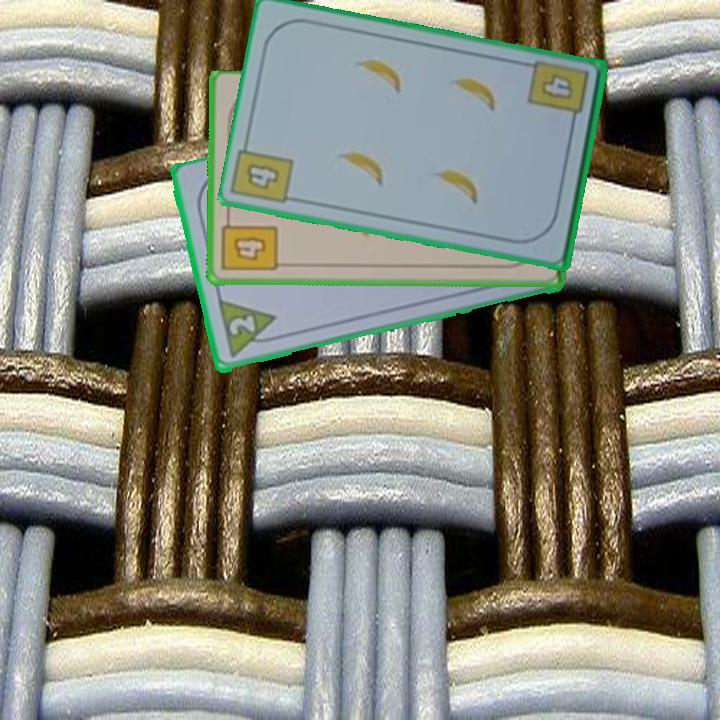2p: (214, 297, 283, 362)
4b: (525, 60, 592, 130), (219, 212, 280, 274), (242, 160, 282, 193)
